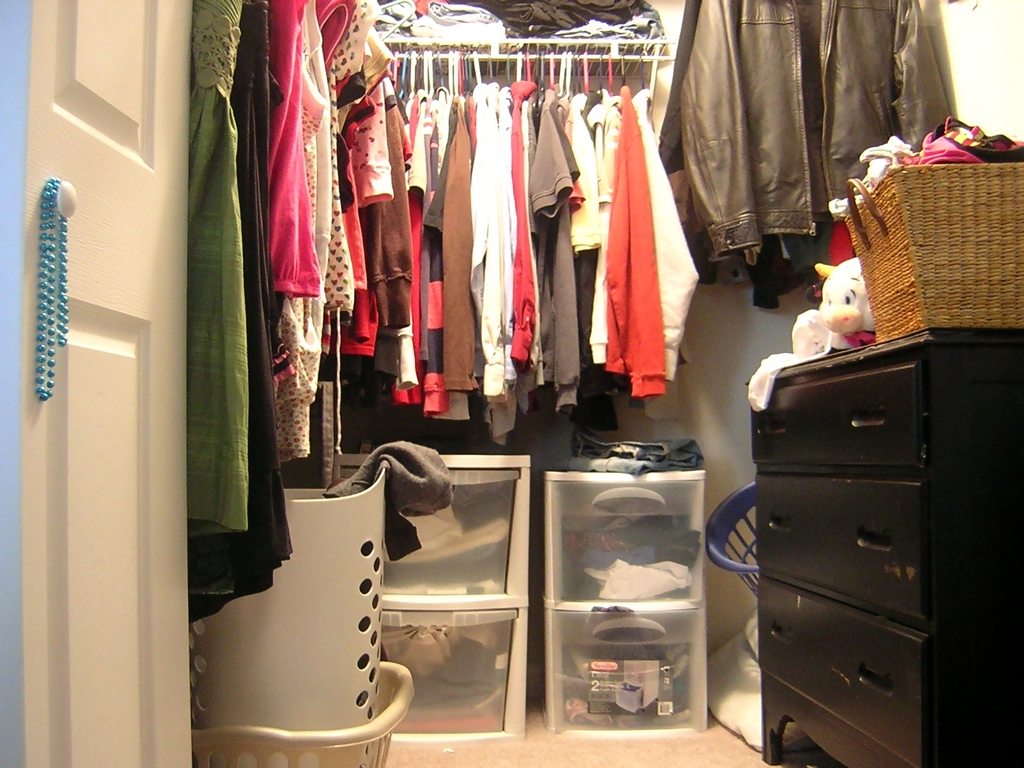cabinet door: (761, 605, 935, 730), (758, 477, 926, 598), (390, 605, 514, 722), (558, 615, 693, 720), (558, 486, 694, 588), (764, 393, 918, 462)
door: (17, 10, 181, 768)
handle: (374, 608, 510, 637), (589, 481, 678, 511), (591, 607, 670, 640), (852, 651, 901, 702), (854, 526, 898, 560), (49, 174, 78, 220), (759, 619, 803, 649), (759, 420, 798, 446), (850, 406, 886, 430), (762, 517, 798, 540)
